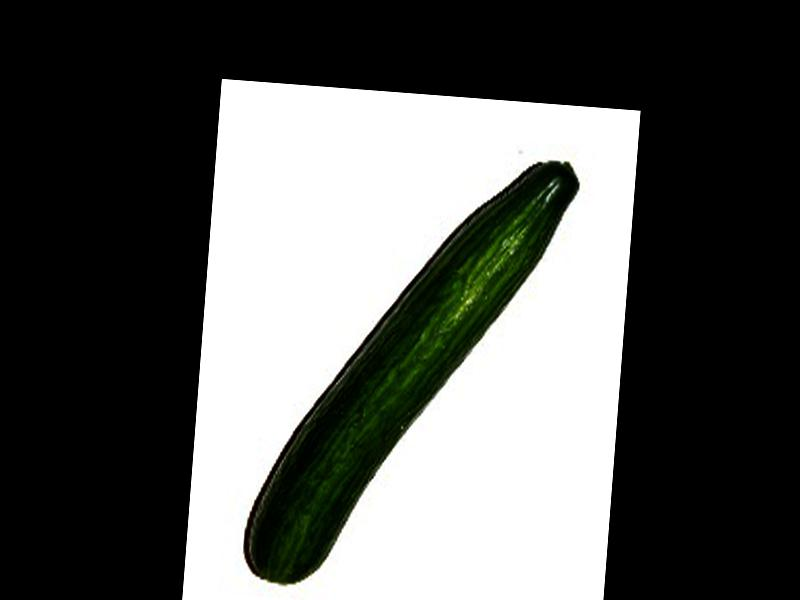Cucumber: (242, 140, 580, 600)
